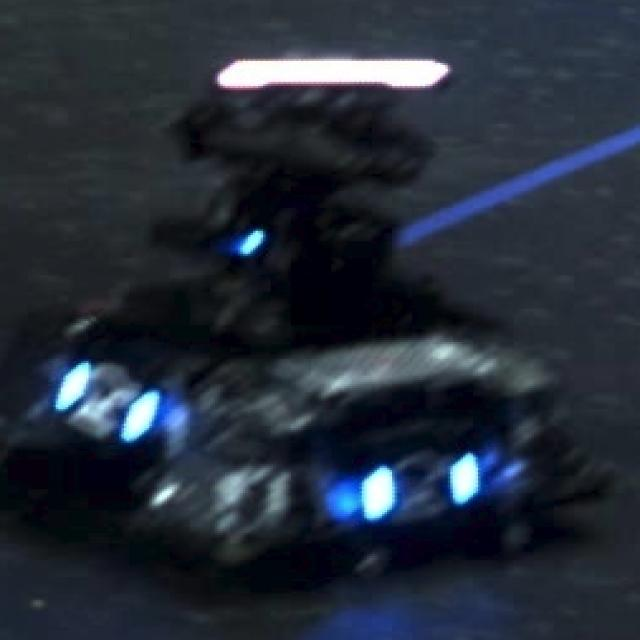Bs: (53, 363, 154, 439), (364, 460, 478, 516)
